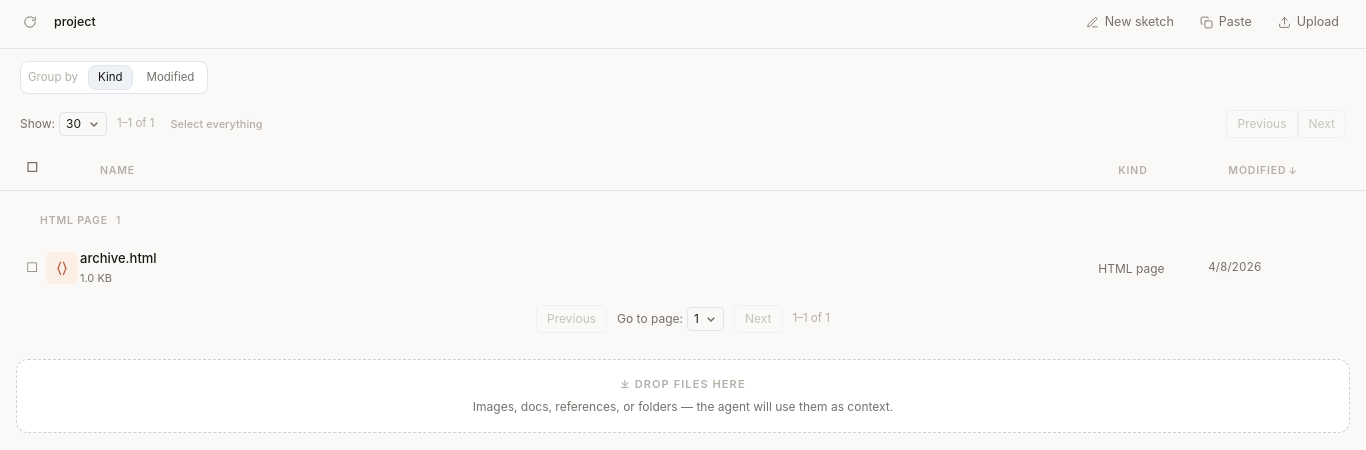
DesignFilesPanel grouping › groups files older than thirty calendar days into older
The width and height of the screenshot is (1366, 450).
Click the button "Modified": (170, 77) [136,65,204,90]
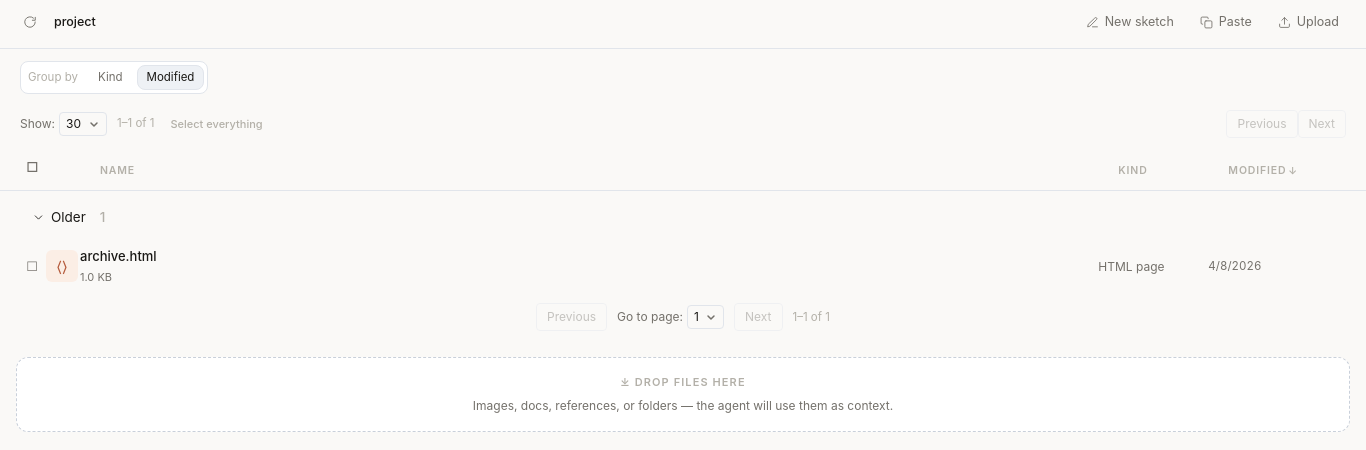
Expected: the row with test id "design-file-row-archive.html" is shown, [0,237,1365,295]
Result: the text "Older" is shown at [51,207,86,227]
